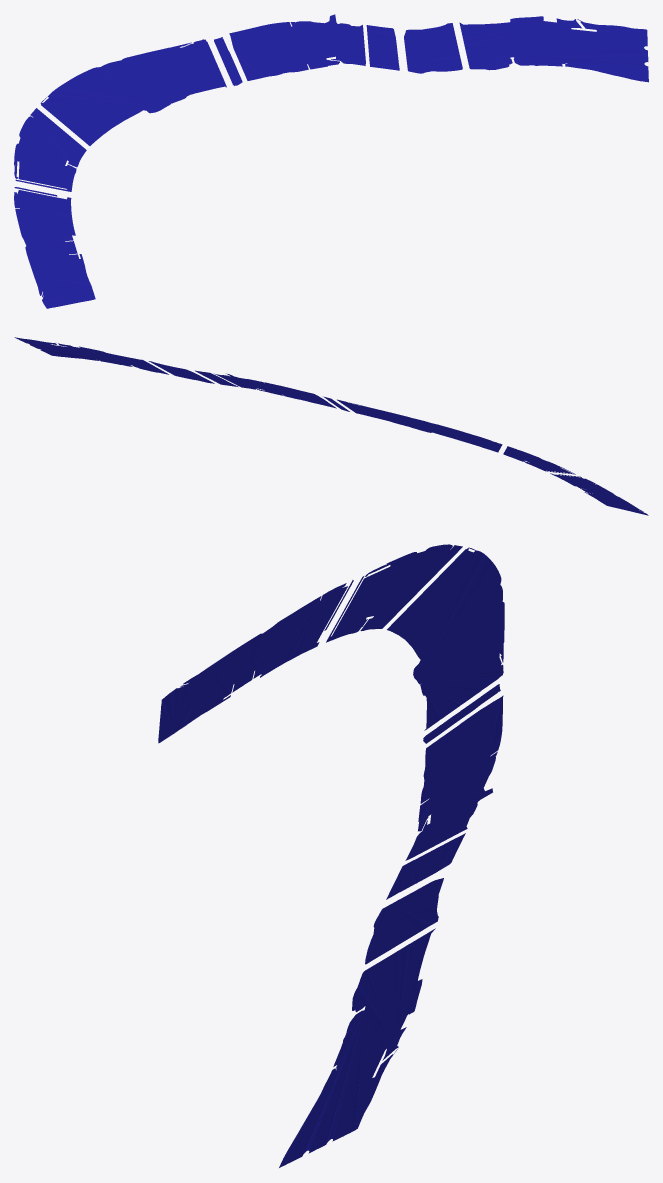
File: TQ_TidalWater_530000_180000_CARTESIAN.dae
3 renders of one model, top to bottom at view 1: azimuth 30°, elevation 25°; view 2: azimuth 150°, elevation 25°; view 3: azimuth 270°, elevation 25°, orthographic. The views are drawn at different scales.
Visible parts, largest first — view 1: poly4, poly9, poly6, poly3, poly0, poly1, poly8, poly7, poly5; view 2: poly4, poly9, poly6, poly3, poly0, poly1, poly8; view 3: poly4, poly9, poly6, poly3, poly0, poly1, poly8, poly7.
Part boxes in pixels (box(x1,y1,x2,y2)): poly4: box(40, 39, 226, 145); poly9: box(459, 16, 648, 82); poly6: box(229, 14, 365, 80); poly3: box(14, 108, 86, 191); poly0: box(25, 236, 95, 308); poly1: box(14, 190, 75, 245); poly8: box(404, 23, 462, 73); poly7: box(366, 25, 399, 70); poly5: box(214, 37, 242, 85); poly4: box(337, 399, 502, 452); poly9: box(14, 337, 168, 374); poly6: box(214, 373, 336, 408); poly3: box(503, 446, 575, 474); poly0: box(578, 487, 648, 515); poly1: box(550, 473, 615, 495); poly8: box(148, 361, 214, 383); poly4: box(387, 547, 504, 730); poly9: box(279, 928, 435, 1167); poly6: box(405, 695, 503, 860); poly3: box(326, 544, 462, 642); poly0: box(158, 633, 262, 743); poly1: box(260, 583, 347, 677); poly8: box(365, 878, 443, 964); poly7: box(386, 833, 465, 899).
Size of the model in its own units: 3.39 by 0.8662 by 0.6899.
